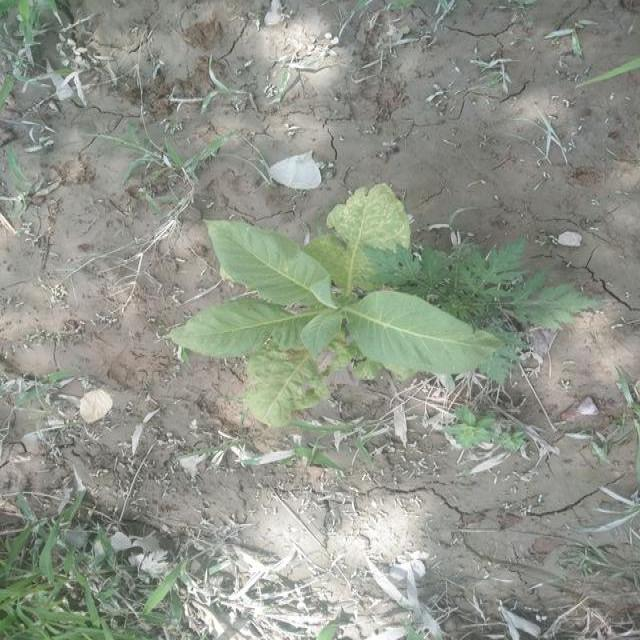crop: (188, 207, 501, 411)
